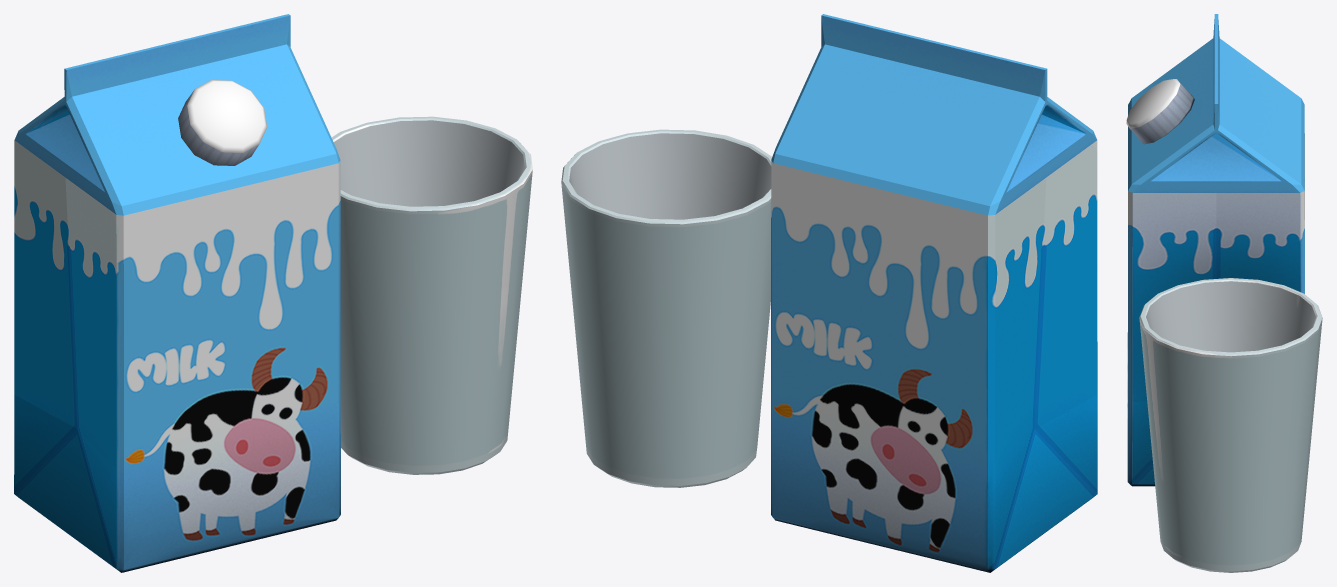
File: Milk.fbx
3 renders of one model, left to right at view 1: azimuth 30°, elevation 25°; view 2: azimuth 150°, elevation 25°; view 3: azimuth 270°, elevation 25°, orthographic. The views are drawn at different scales.
Visible parts, largest first — view 1: polySurface2, polySurface1; view 2: polySurface2, polySurface1; view 3: polySurface1, polySurface2.
Boxes of the visible parts, box(x1,y1,x2,y2) form: polySurface2: box(14, 14, 340, 572); polySurface1: box(331, 116, 532, 474); polySurface2: box(771, 14, 1097, 572); polySurface1: box(561, 129, 772, 487); polySurface1: box(1139, 278, 1322, 572); polySurface2: box(1126, 14, 1304, 486).
Size of the model in its own units: 37.51 by 36.24 by 16.78.
1 material, 1 textured.
